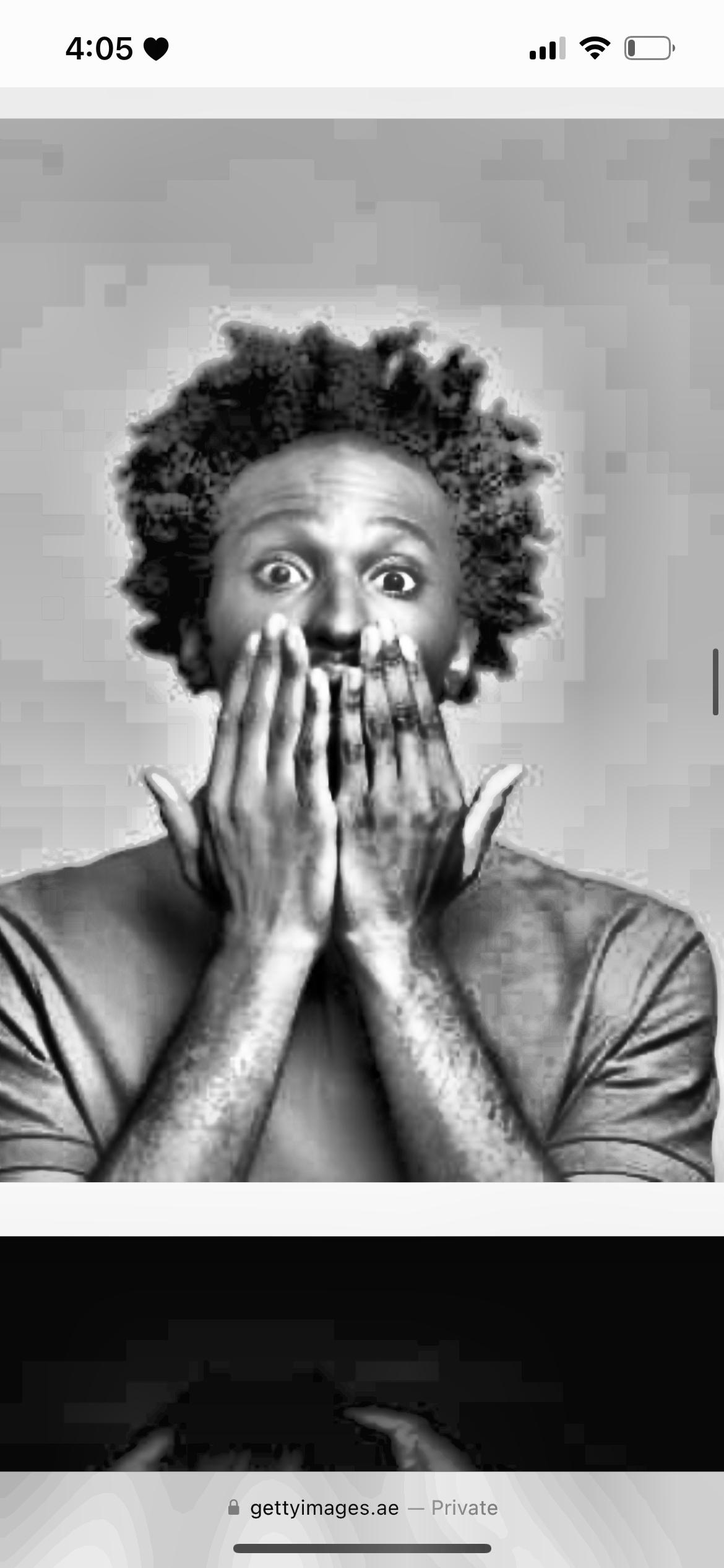surprised: (205, 449, 452, 783)
